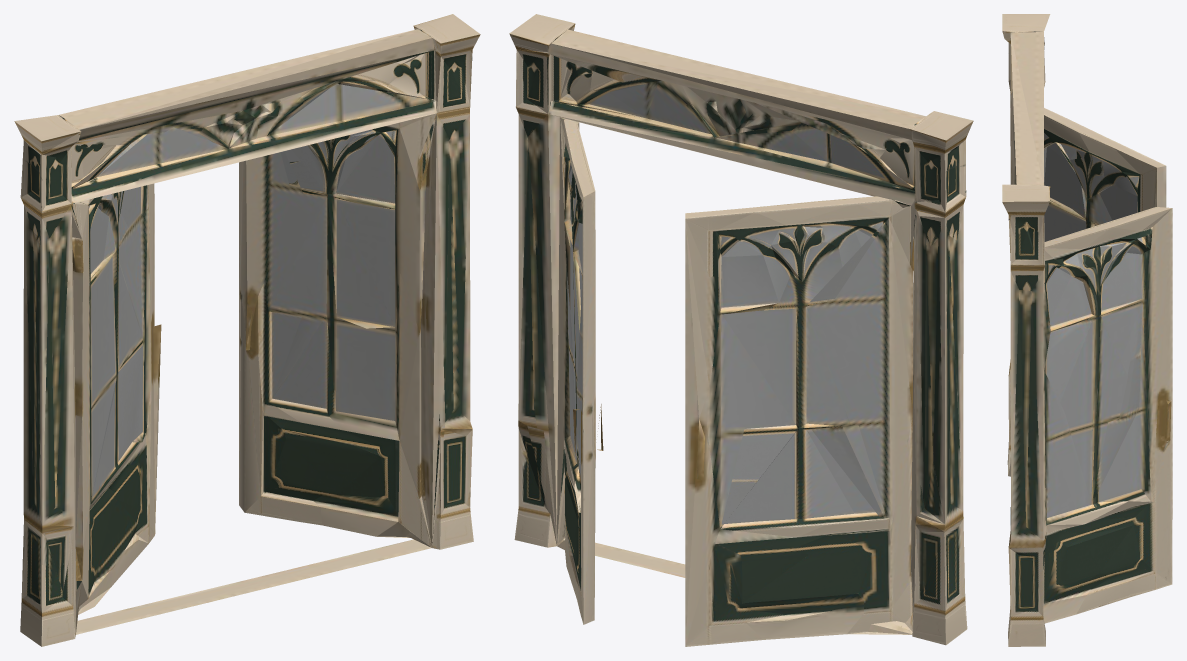
The model's file is item02.glb.
3 views of the same model, side by side, from view 1: azimuth 30°, elevation 25°; view 2: azimuth 150°, elevation 25°; view 3: azimuth 270°, elevation 25° (orthographic). The views are drawn at different scales.
Parts seen in each view (by area): view 1: output_unwrapped; view 2: output_unwrapped; view 3: output_unwrapped.
Part boxes in pixels (bbox=[...]): output_unwrapped: bbox=[14, 14, 480, 646]; output_unwrapped: bbox=[509, 14, 973, 646]; output_unwrapped: bbox=[1002, 14, 1172, 646].
Size of the model in its own units: 0.9015 by 1 by 0.3461.
1 material, 1 textured.
